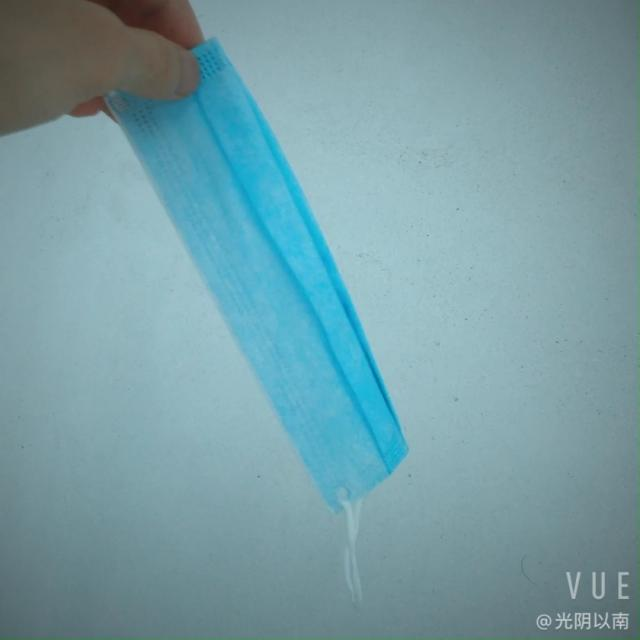non-organic waste: (143, 24, 417, 506)
